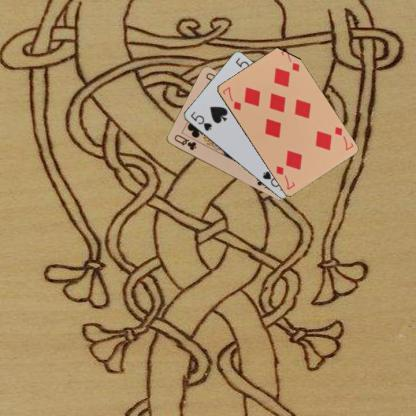5s: (188, 109, 213, 132)
7d: (332, 124, 354, 152), (220, 84, 242, 111)
Qc: (172, 132, 198, 152)
